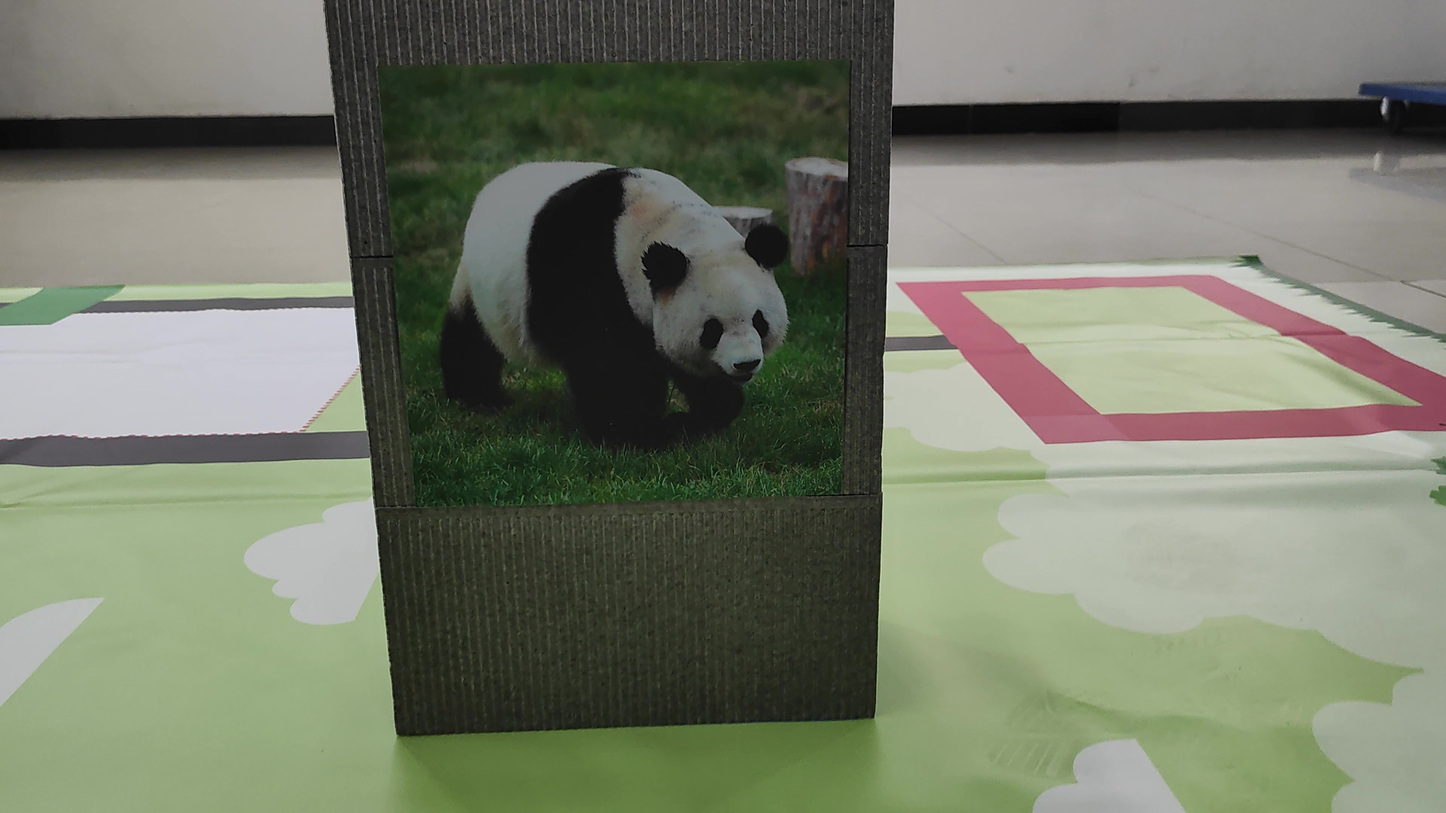panda: (393, 63, 826, 486)
